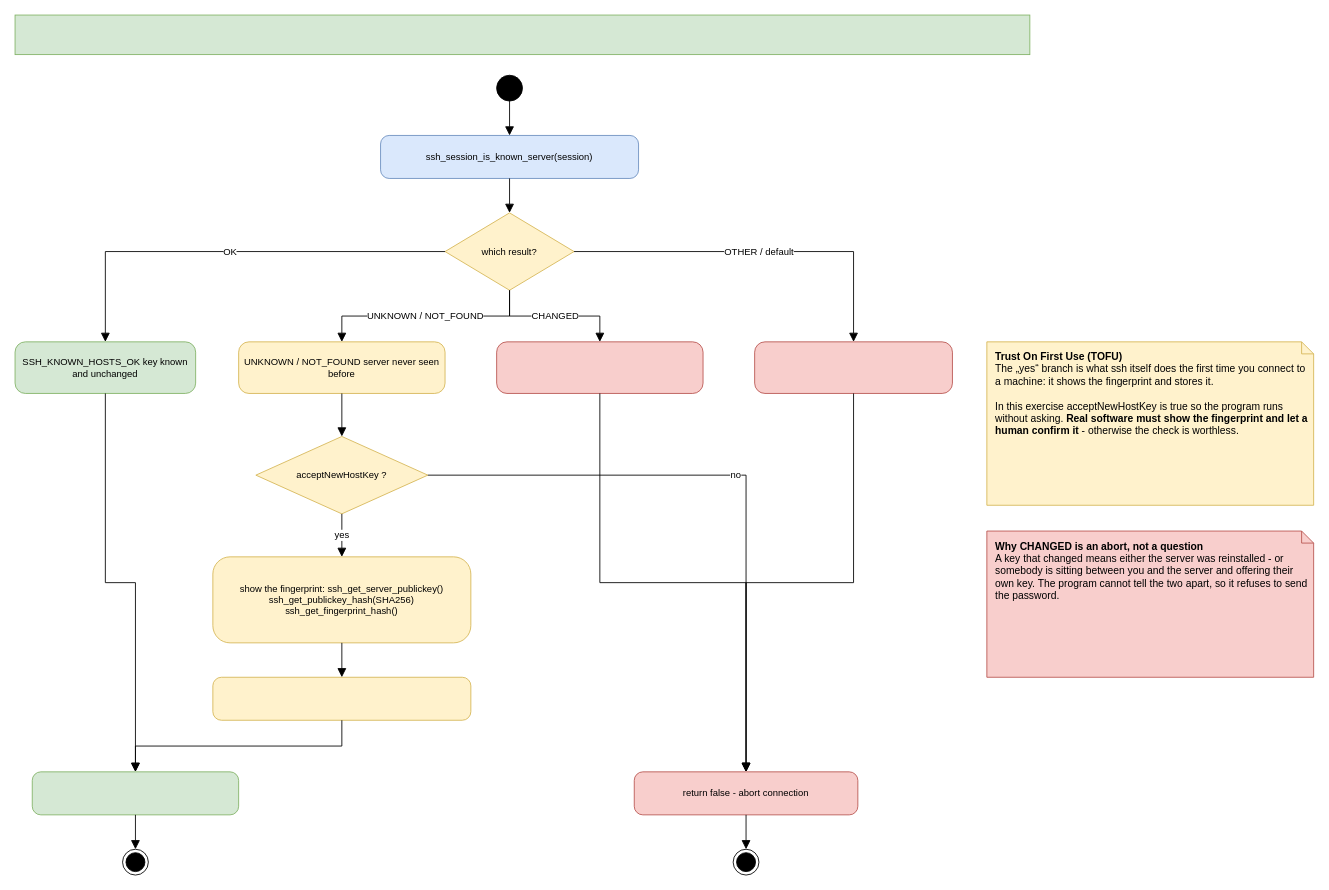
This 1329x890 diagram has some shape labels left out. The centre of each missing label's shape, as x and y in pixels:
"CHANGED key differs from the stored one" goes at point (599, 367).
"OTHER / default other key type, or an error" goes at point (853, 367).
"return true - continue" goes at point (135, 793).
"ssh_session_update_known_hosts()" goes at point (341, 698).
"verifyHostKey() - what happens for each possible state of the server's host key" goes at point (522, 34).
